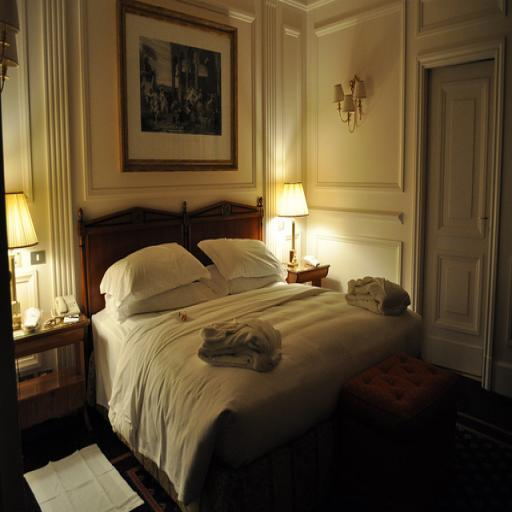bed: (76, 180, 462, 491)
